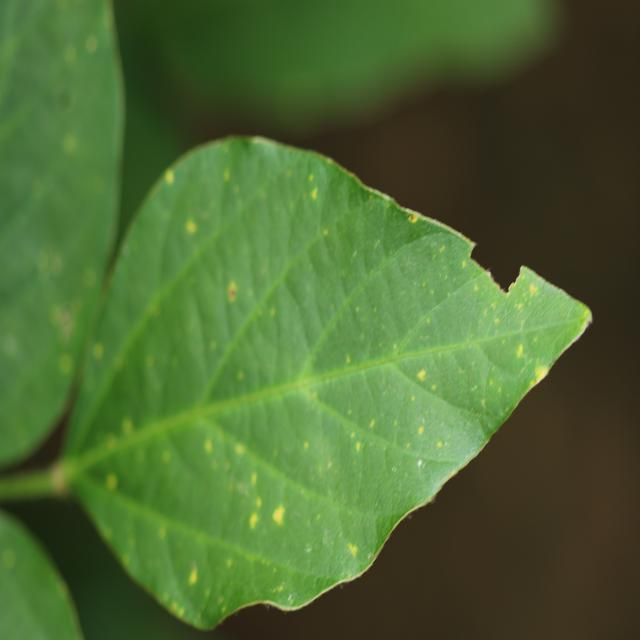Soybean: (0, 0, 594, 634)
downey_mildew: (63, 326, 484, 594), (281, 220, 479, 479), (262, 380, 443, 563), (71, 397, 269, 497), (155, 173, 275, 333), (89, 295, 207, 441), (440, 277, 546, 416), (6, 2, 110, 124), (211, 458, 318, 564), (247, 398, 353, 499), (24, 229, 93, 372), (216, 437, 310, 540), (280, 342, 460, 394), (217, 301, 297, 402), (382, 237, 468, 330), (375, 432, 458, 523), (365, 294, 462, 369), (397, 367, 473, 462), (398, 209, 482, 260), (514, 264, 582, 318), (323, 529, 370, 582), (502, 279, 544, 330), (405, 398, 439, 459), (38, 246, 64, 277), (52, 304, 75, 339), (49, 462, 67, 492), (441, 467, 464, 490), (577, 301, 592, 329), (372, 189, 396, 206), (505, 274, 523, 296), (482, 266, 499, 287), (192, 606, 208, 626), (62, 133, 77, 154), (3, 335, 18, 355), (59, 354, 73, 374), (58, 90, 72, 110), (3, 549, 15, 568), (64, 45, 76, 64), (86, 35, 98, 53), (83, 268, 95, 286), (534, 366, 547, 382), (227, 282, 237, 301), (122, 418, 133, 435), (106, 474, 117, 490), (185, 219, 196, 234), (93, 343, 103, 359), (249, 512, 258, 529), (188, 568, 197, 585), (172, 600, 182, 615), (235, 443, 245, 456), (165, 170, 174, 184), (516, 343, 524, 358), (204, 439, 212, 453), (417, 368, 426, 380), (161, 451, 170, 463), (310, 187, 318, 200), (145, 355, 153, 368), (177, 605, 185, 617), (250, 472, 257, 485), (159, 527, 166, 539), (409, 214, 418, 223), (529, 283, 537, 293), (485, 267, 493, 277), (223, 170, 230, 181), (123, 554, 130, 565), (470, 383, 478, 392), (355, 441, 361, 452), (256, 496, 262, 507), (530, 378, 537, 387), (210, 341, 216, 351), (226, 558, 232, 568), (418, 426, 424, 435), (369, 419, 375, 428), (237, 371, 243, 380), (308, 173, 314, 182), (221, 603, 227, 612), (346, 354, 351, 364), (439, 245, 445, 253), (303, 441, 309, 449), (461, 260, 467, 268), (270, 308, 275, 317), (494, 317, 500, 324), (436, 441, 442, 448), (311, 392, 317, 399), (481, 399, 486, 407), (473, 284, 478, 292), (392, 343, 397, 351), (323, 228, 328, 236), (350, 431, 355, 439), (417, 459, 422, 467), (425, 318, 430, 325), (491, 302, 496, 309), (391, 466, 396, 473), (355, 306, 360, 313), (431, 384, 436, 391), (367, 552, 372, 559), (421, 417, 426, 424), (394, 419, 398, 427), (375, 501, 379, 509), (533, 336, 538, 342), (369, 194, 374, 200), (489, 379, 493, 386), (498, 386, 502, 393), (411, 395, 415, 402), (520, 320, 524, 327), (406, 442, 410, 448), (430, 289, 434, 295), (469, 333, 473, 339), (444, 441, 448, 447), (502, 339, 505, 345)
